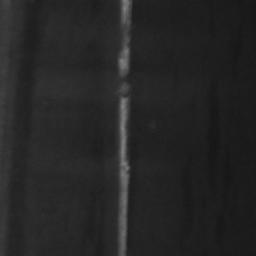Bright scratch: (118, 82, 131, 256), (118, 0, 132, 79)
